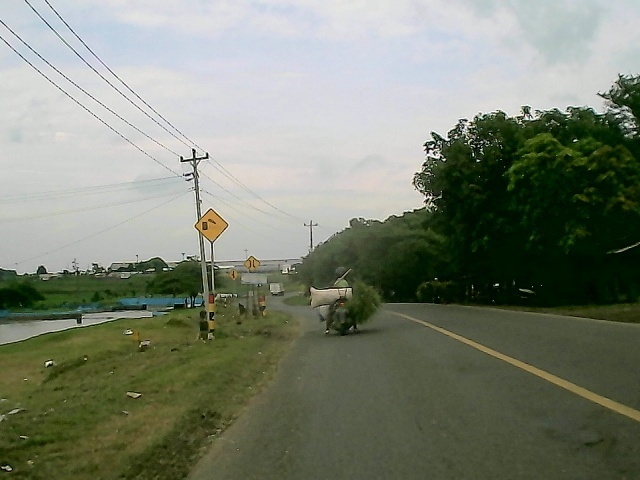Jembatan: (241, 253, 261, 274)
Peringatan tepi air: (191, 205, 230, 245)
